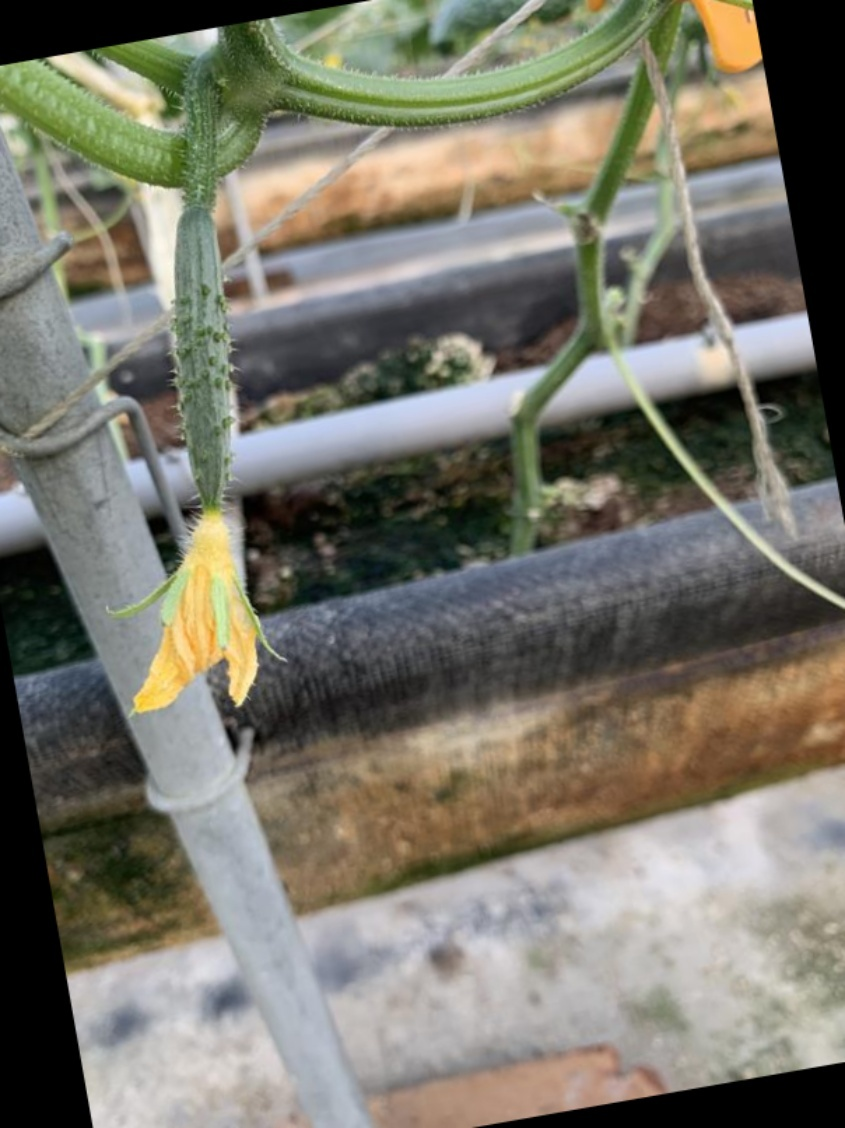bear: (89, 191, 301, 711)
